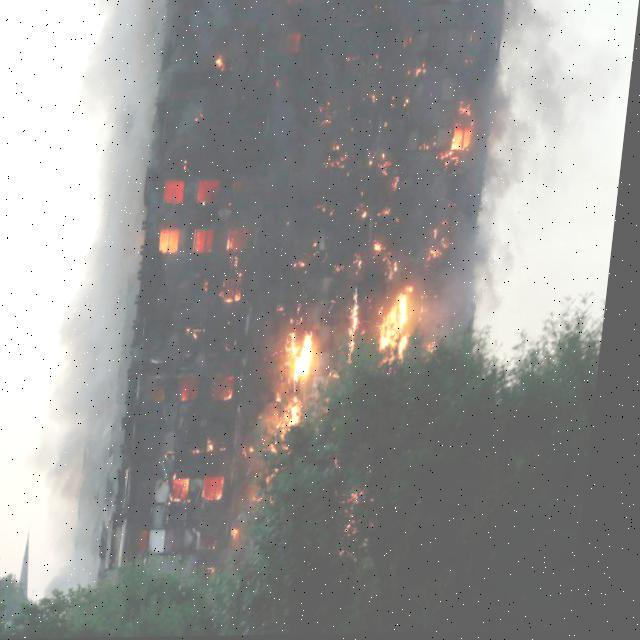Fire: (127, 0, 507, 574)
